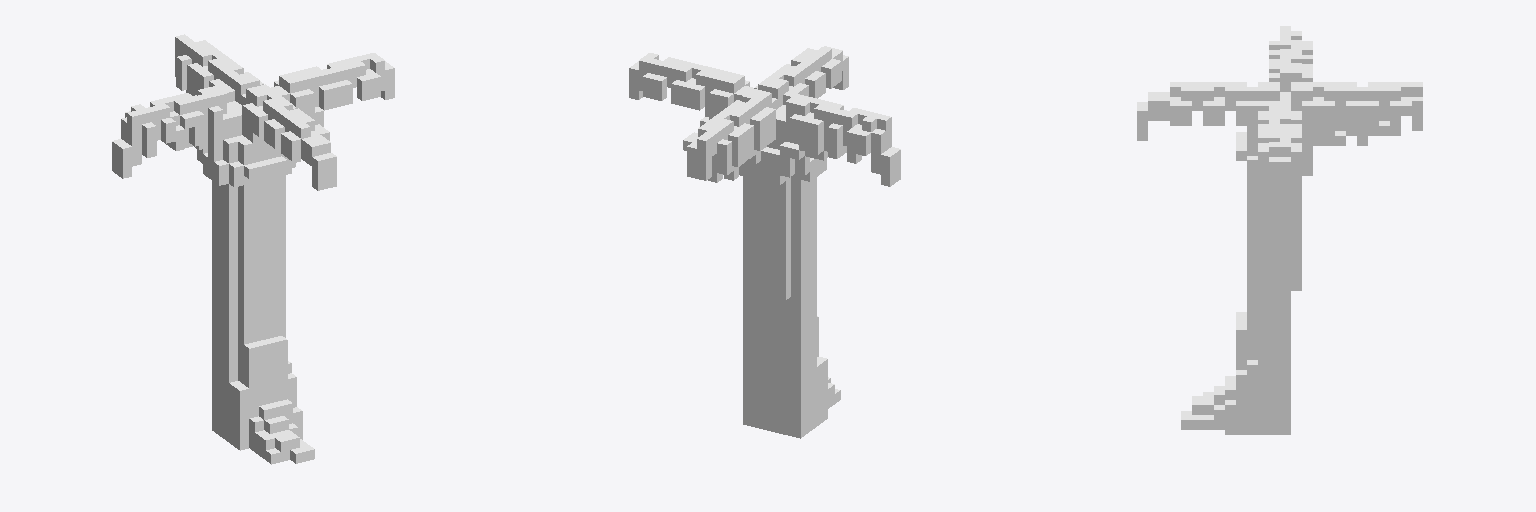
File: PalmTree.obj
3 views of the same model, side by side, from view 1: azimuth 30°, elevation 25°; view 2: azimuth 150°, elevation 25°; view 3: azimuth 270°, elevation 25° (orthographic).
Visible parts, largest first — view 1: PalmTree; view 2: PalmTree; view 3: PalmTree.
Boxes of the visible parts, x1,y1,x2,y2 form: PalmTree: [112, 34, 394, 464]; PalmTree: [629, 46, 900, 438]; PalmTree: [1137, 26, 1422, 434].
Size of the model in its own units: 28 by 34 by 26.